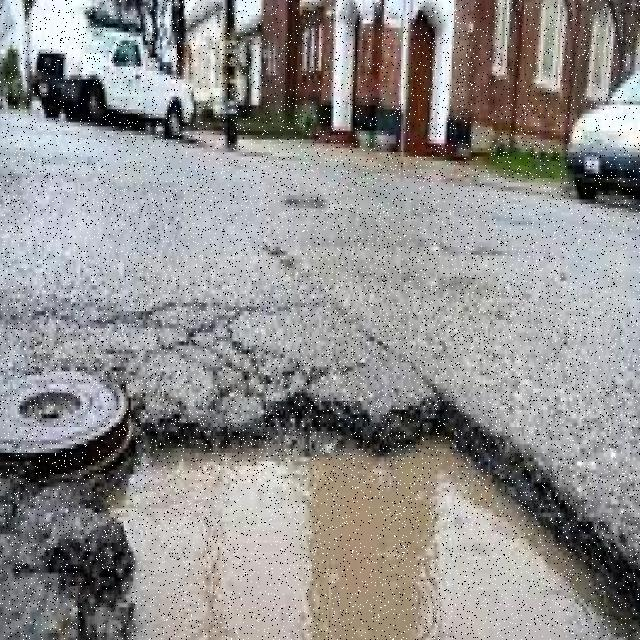pothole: (0, 384, 640, 640)
